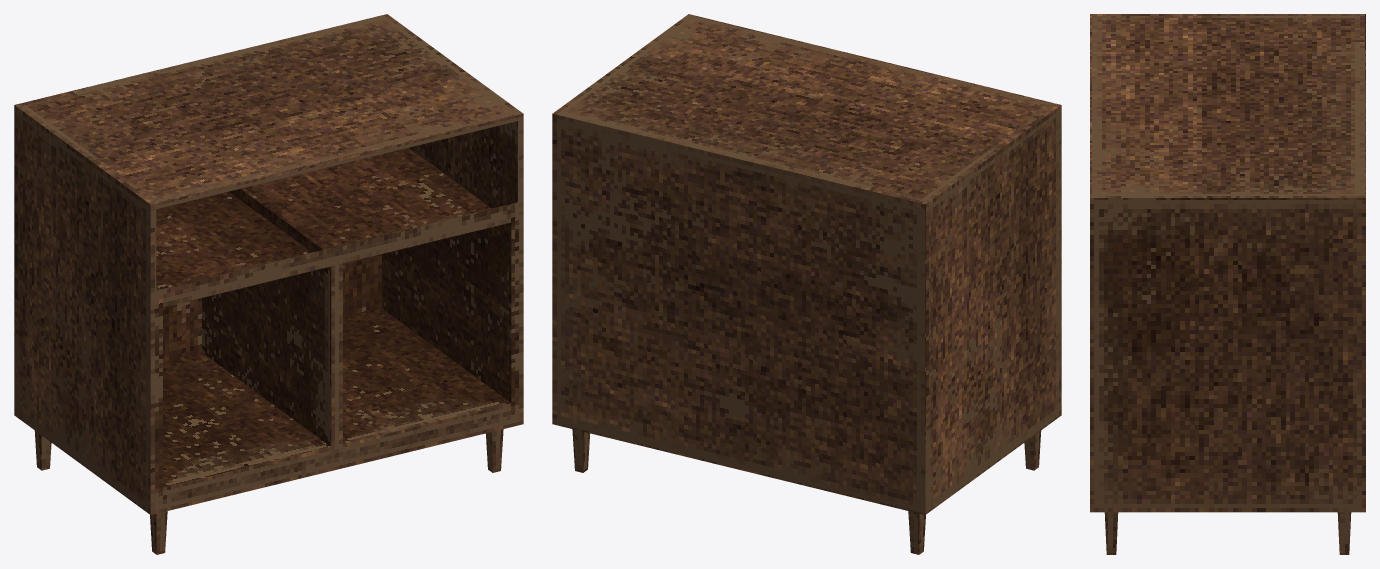
The model's file is TvStand_Cabinet.glb.
3 views of the same model, side by side, from view 1: azimuth 30°, elevation 25°; view 2: azimuth 150°, elevation 25°; view 3: azimuth 270°, elevation 25° (orthographic).
Visible parts, largest first — view 1: TvStandBase; view 2: TvStandBase; view 3: TvStandBase.
Part boxes in pixels (x1,y1,x2,y2): TvStandBase: [14, 14, 523, 554]; TvStandBase: [552, 14, 1061, 554]; TvStandBase: [1090, 14, 1365, 554].
Size of the model in its own units: 0.7105 by 0.6551 by 0.4496.
1 material, 1 textured.
